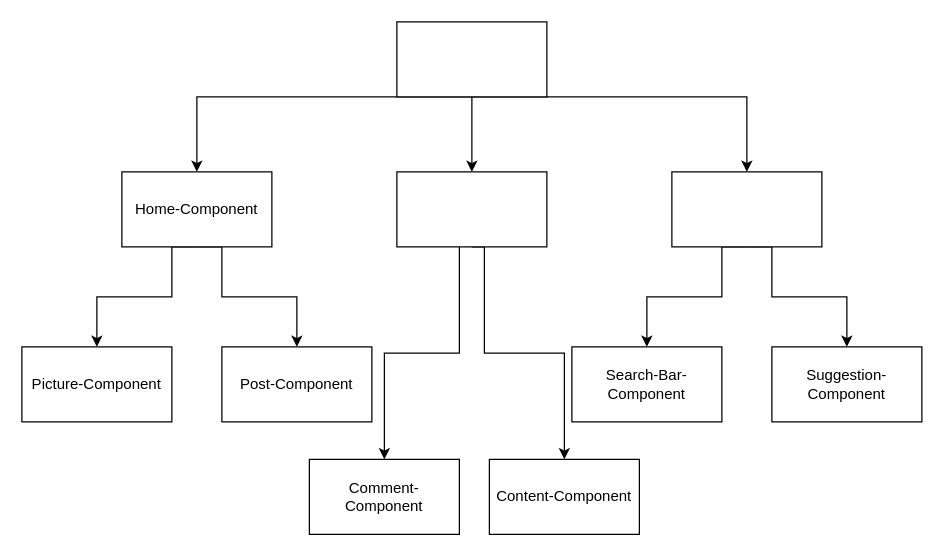
The diagram is 944 pixels wide and 556 high, and some of its shapes have lost their labels. The centre of each missing label's shape, as x and y in pixels:
"Detail-Component" belongs at (471,209).
"Frame-Component" belongs at (471,59).
"Search-Component" belongs at (746,209).
